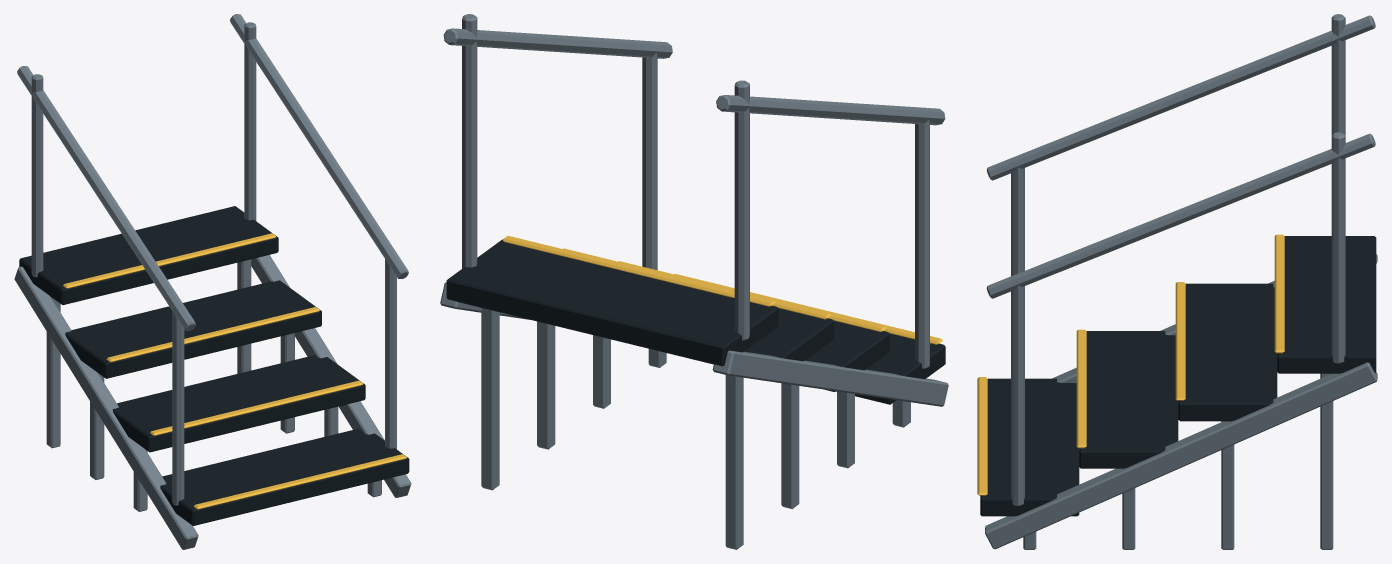
File: b20_portable_stage_stair_module.glb
3 renders of one model, left to right at view 1: azimuth 30°, elevation 25°; view 2: azimuth 150°, elevation 25°; view 3: azimuth 270°, elevation 25°, orthographic. The views are drawn at different scales.
Parts seen in each view (by area): view 1: b20_portable_stage_stair_module; view 2: b20_portable_stage_stair_module; view 3: b20_portable_stage_stair_module.
Boxes of the visible parts, x1,y1,x2,y2 form: b20_portable_stage_stair_module: (14, 14, 411, 549); b20_portable_stage_stair_module: (440, 14, 948, 549); b20_portable_stage_stair_module: (977, 14, 1377, 549).
Bounding box in the file's own units: 1.02 × 1.59 × 1.37.
